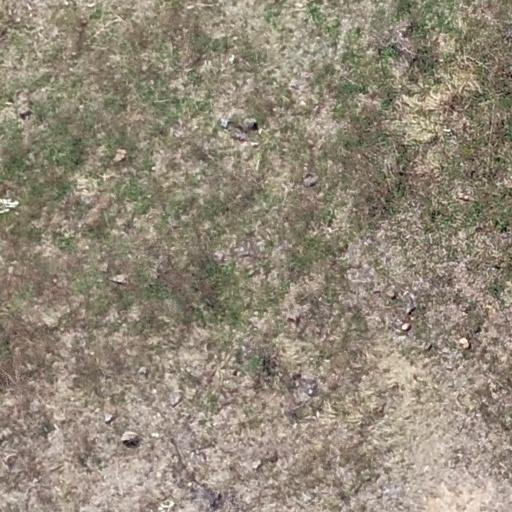stone: (228, 110, 259, 130), (120, 430, 142, 450), (16, 96, 34, 119), (302, 170, 319, 190), (112, 146, 130, 163), (169, 388, 186, 405), (108, 274, 132, 286), (455, 333, 470, 350), (400, 322, 416, 332), (386, 286, 397, 299), (104, 411, 114, 422)
